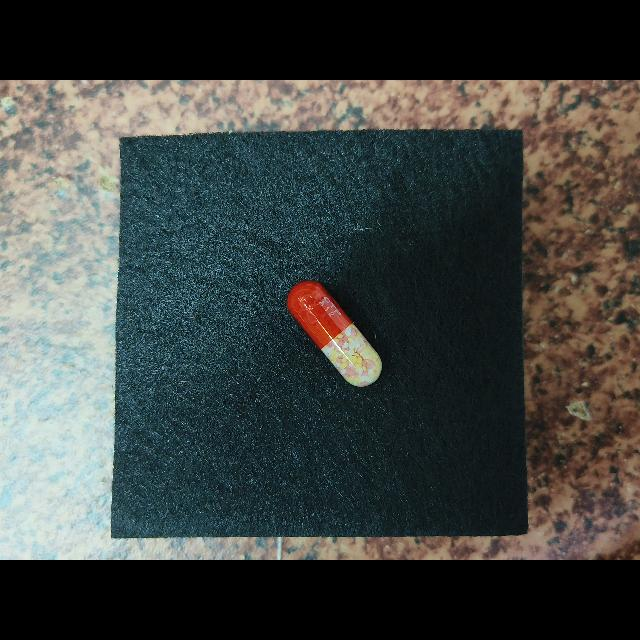Intact Capsule: (287, 280, 382, 387)
